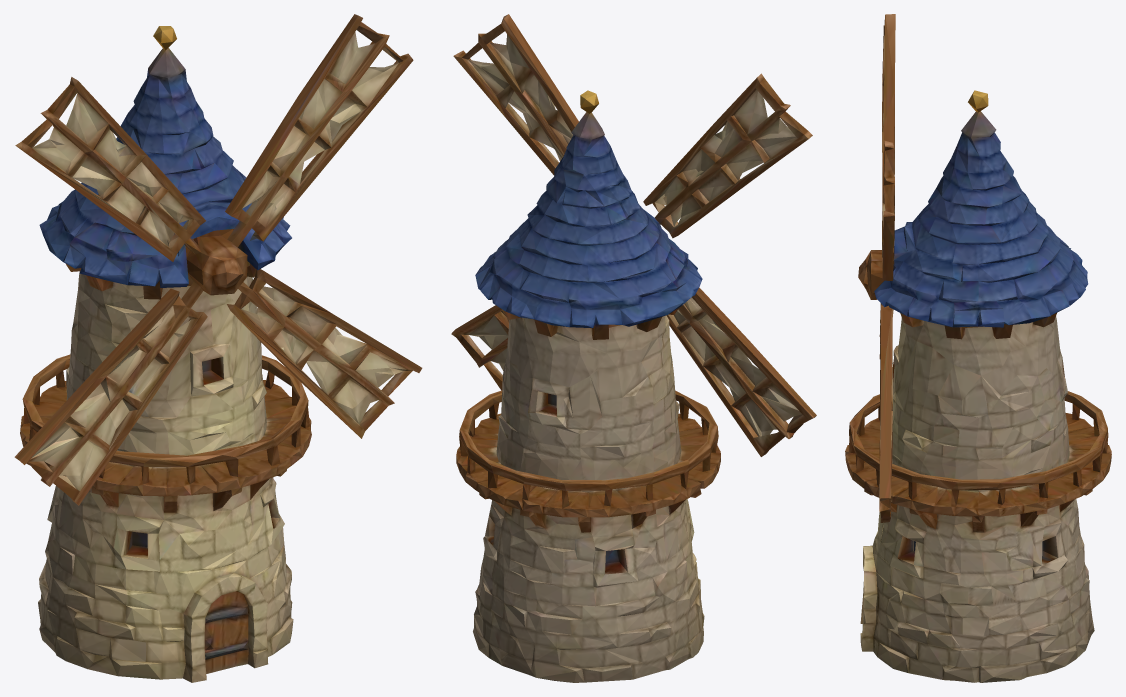
File: oc_windmill_tower.glb
3 views of the same model, side by side, from view 1: azimuth 30°, elevation 25°; view 2: azimuth 150°, elevation 25°; view 3: azimuth 270°, elevation 25° (orthographic). The views are drawn at different scales.
Visible parts, largest first — view 1: W_windmill_tower; view 2: W_windmill_tower; view 3: W_windmill_tower.
Boxes of the visible parts, box(x1,y1,x2,y2) form: W_windmill_tower: box(14, 14, 422, 682); W_windmill_tower: box(451, 14, 816, 682); W_windmill_tower: box(845, 14, 1111, 682).
Size of the model in its own units: 10.88 by 15.98 by 6.91.
1 material, 1 textured.
